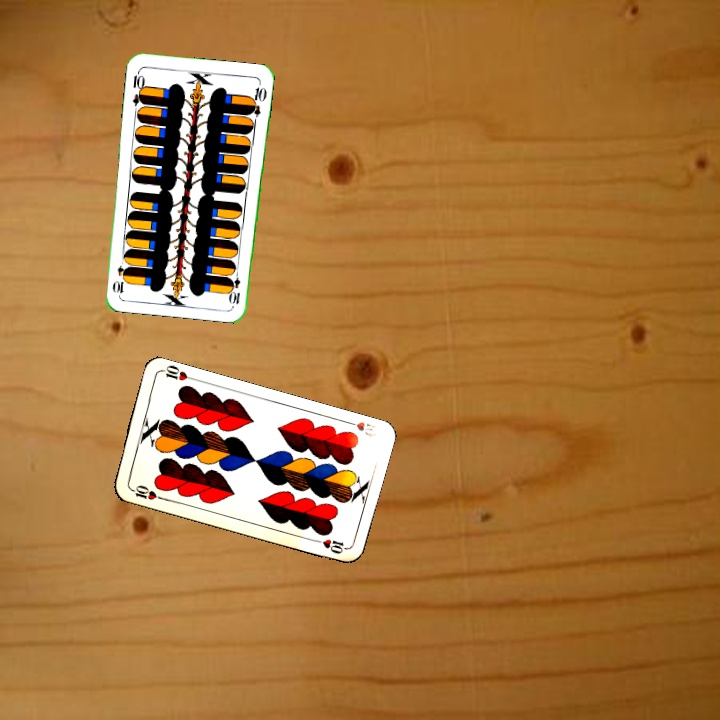E10: (128, 67, 148, 108), (227, 266, 243, 307)
H10: (341, 416, 379, 440), (126, 481, 166, 503)
